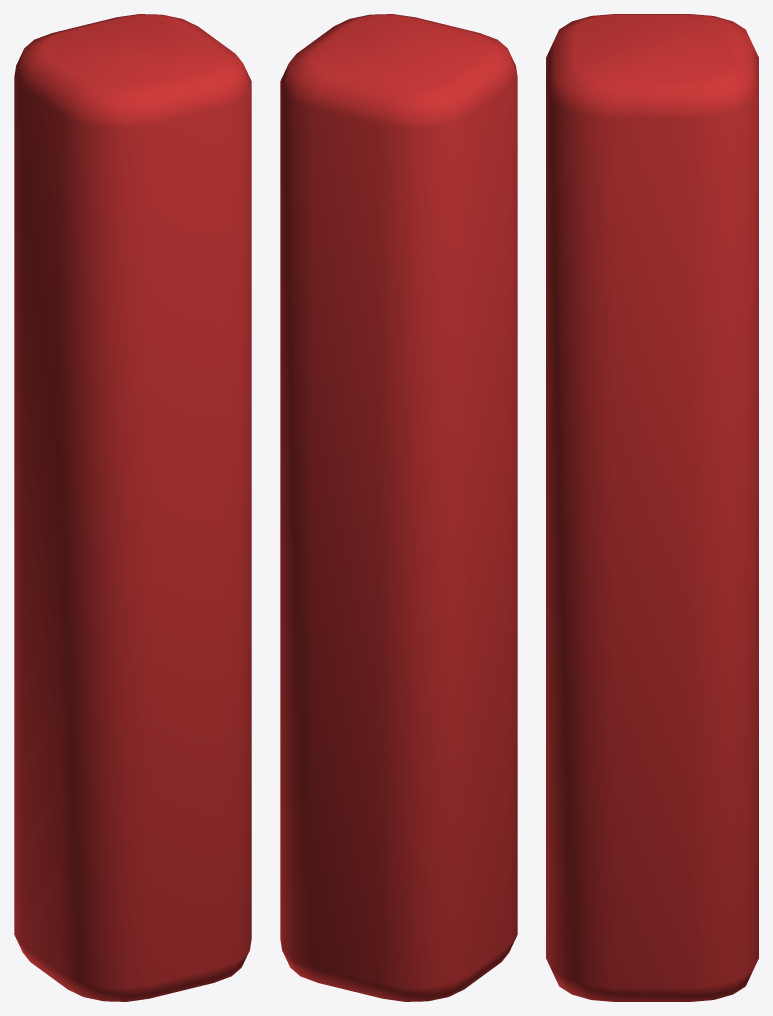
Rendered from TurnbucklePad_Red.glb.
3 views of the same model, side by side, from view 1: azimuth 30°, elevation 25°; view 2: azimuth 150°, elevation 25°; view 3: azimuth 270°, elevation 25° (orthographic).
Parts seen in each view (by area): view 1: TurnbucklePad_Red; view 2: TurnbucklePad_Red; view 3: TurnbucklePad_Red.
Part boxes in pixels (box(x1,y1,x2,y2)): TurnbucklePad_Red: box(14, 14, 251, 1001); TurnbucklePad_Red: box(280, 14, 517, 1001); TurnbucklePad_Red: box(546, 14, 758, 1001).
Size of the model in its own units: 0.22 by 1.05 by 0.22.
